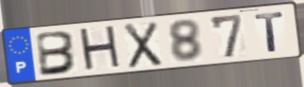7: (208, 13, 246, 60)
8: (167, 18, 206, 64)
B: (35, 30, 80, 78)
H: (77, 24, 124, 74)
T: (252, 10, 287, 54)
X: (122, 20, 164, 71)
